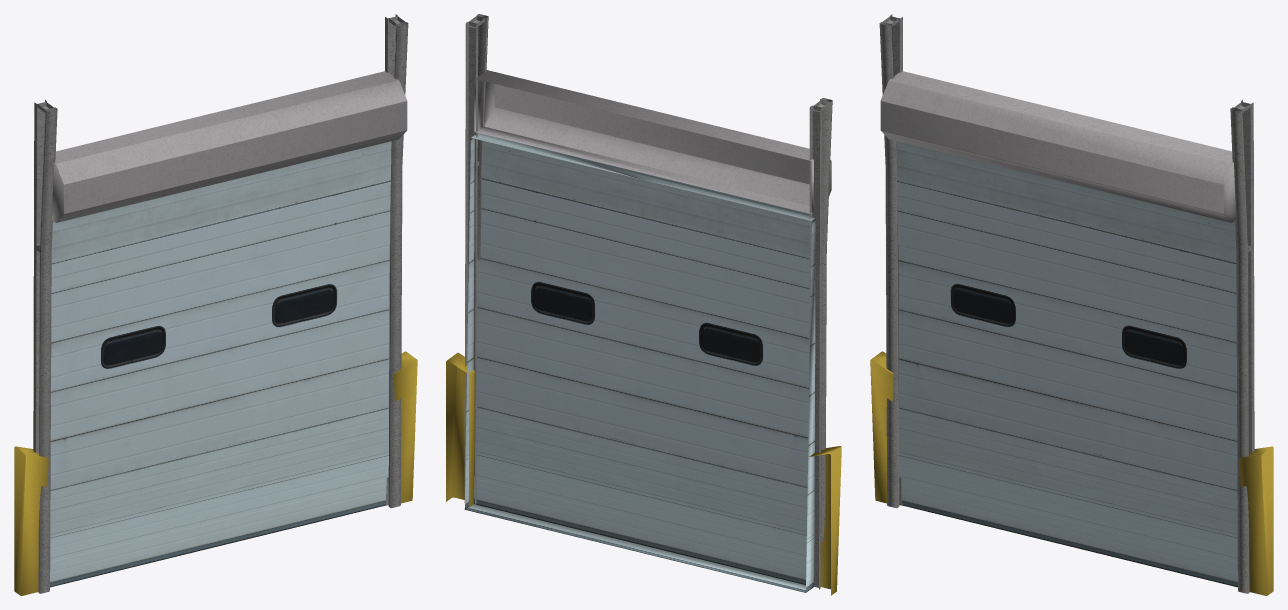
The model's file is WarehouseDTRollupDoor.fbx.
3 renders of one model, left to right at view 1: azimuth 30°, elevation 25°; view 2: azimuth 150°, elevation 25°; view 3: azimuth 330°, elevation 25°, orthographic.
Parts seen in each view (by area): view 1: WarehouseDTRollupDoor; view 2: WarehouseDTRollupDoor; view 3: WarehouseDTRollupDoor.
Part boxes in pixels (x1,y1,x2,y2): WarehouseDTRollupDoor: (14, 14, 417, 595); WarehouseDTRollupDoor: (446, 14, 841, 595); WarehouseDTRollupDoor: (870, 14, 1273, 595).
Size of the model in its own units: 323 by 385 by 40.85.
